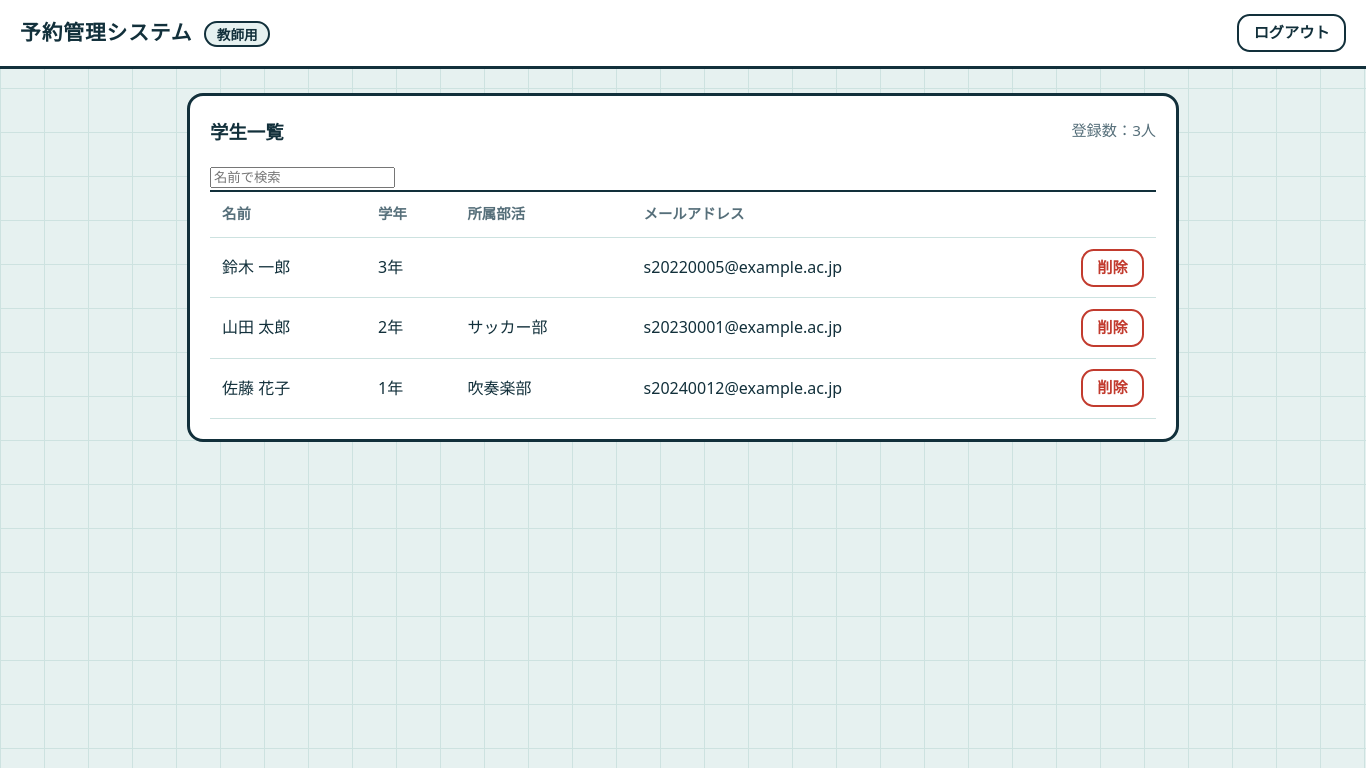
Test case: 学生一覧画面（教師用） › 「キャンセル」と Escキーで、削除せずに、ポップアップを閉じる
Expected: the heading "学生一覧" is shown, left=210, top=116, right=284, bottom=147
Click the button with aria-label "山田 太郎を削除".
click(1112, 328)  # box left=1081, top=309, right=1144, bottom=347
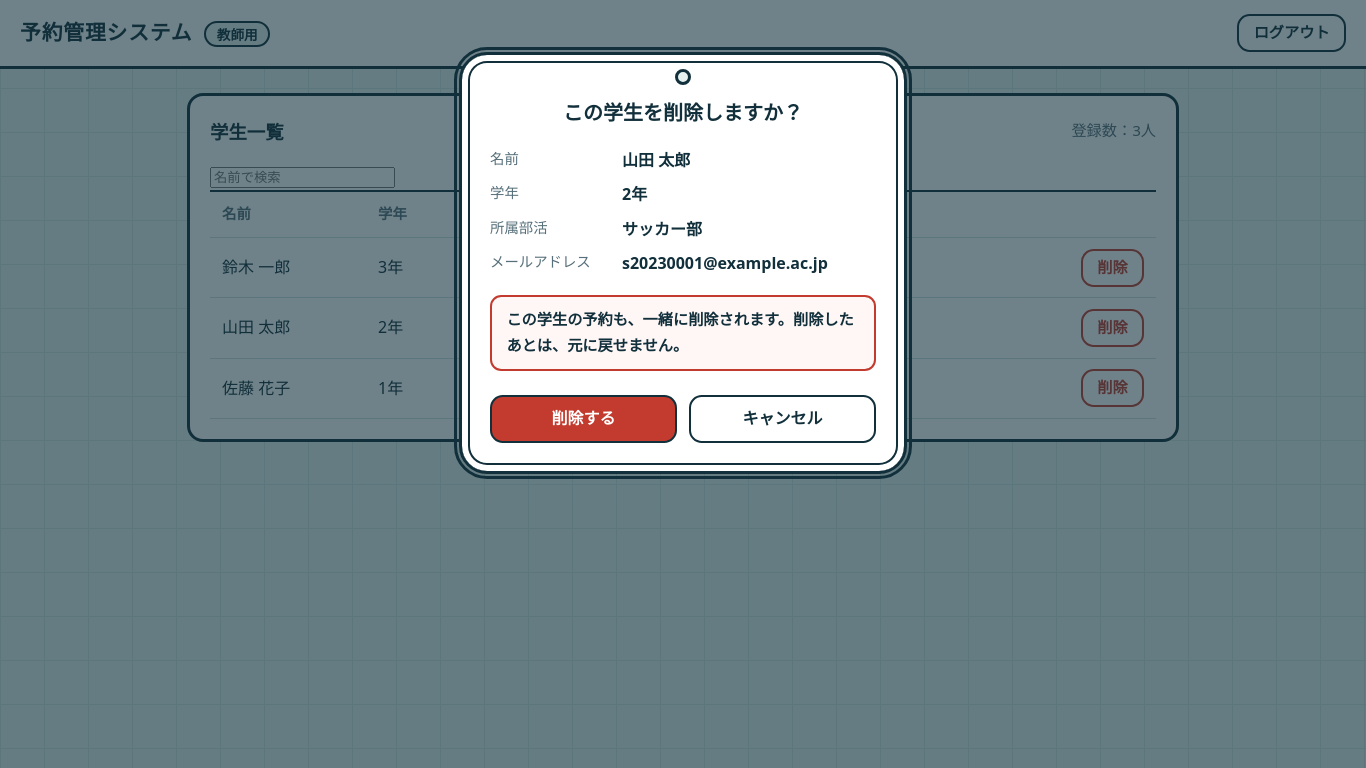
Click the button "キャンセル".
click(782, 419)  # box left=689, top=395, right=876, bottom=443
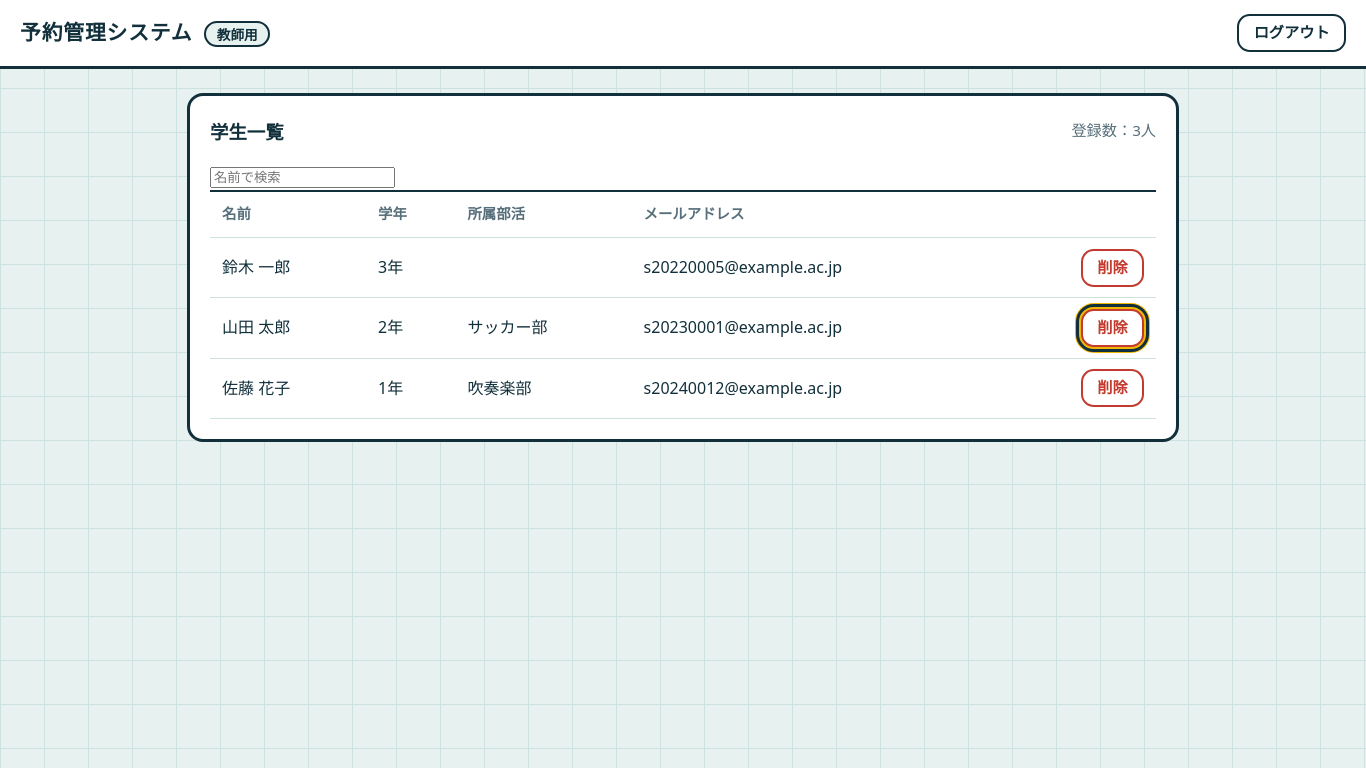
Result: the dialog is gone
Click the button with aria-label "佐藤 花子を削除".
click(1112, 388)  # box left=1081, top=369, right=1144, bottom=407
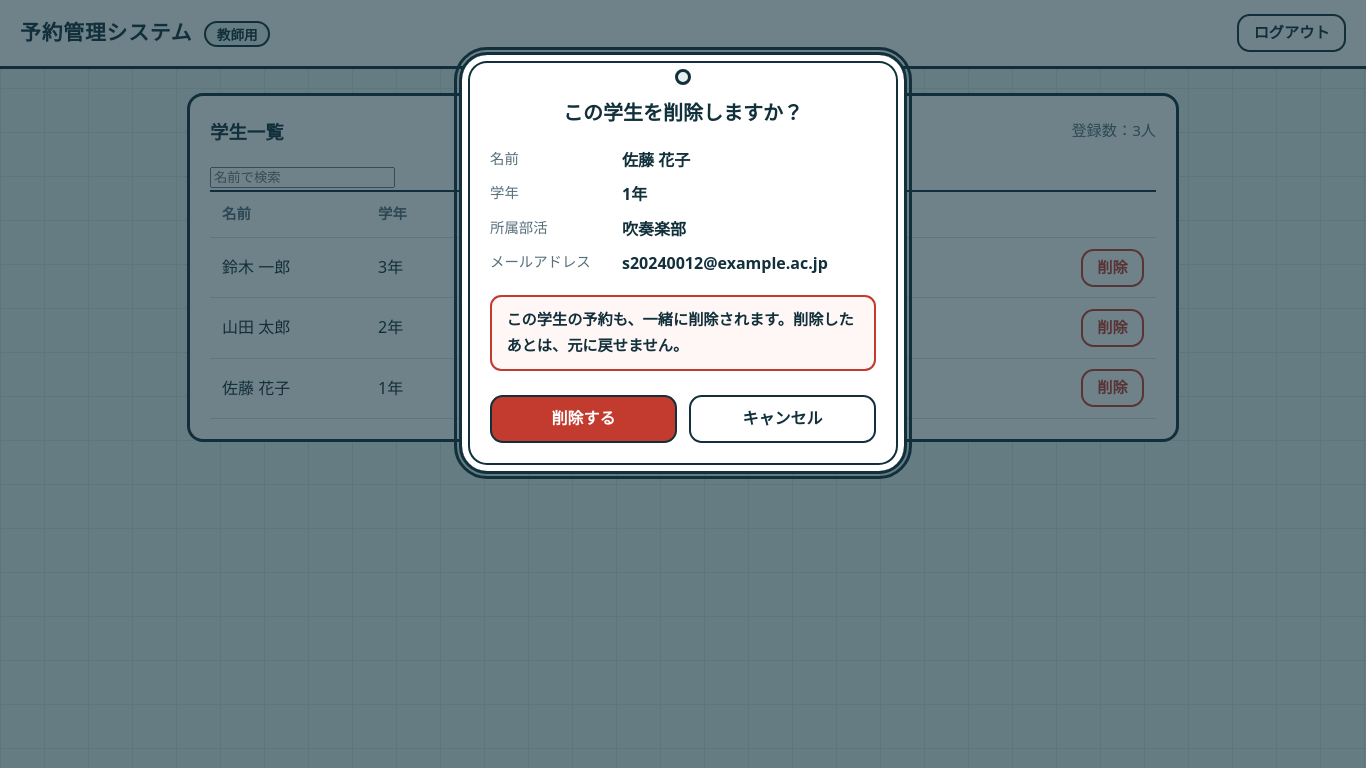
Press Escape
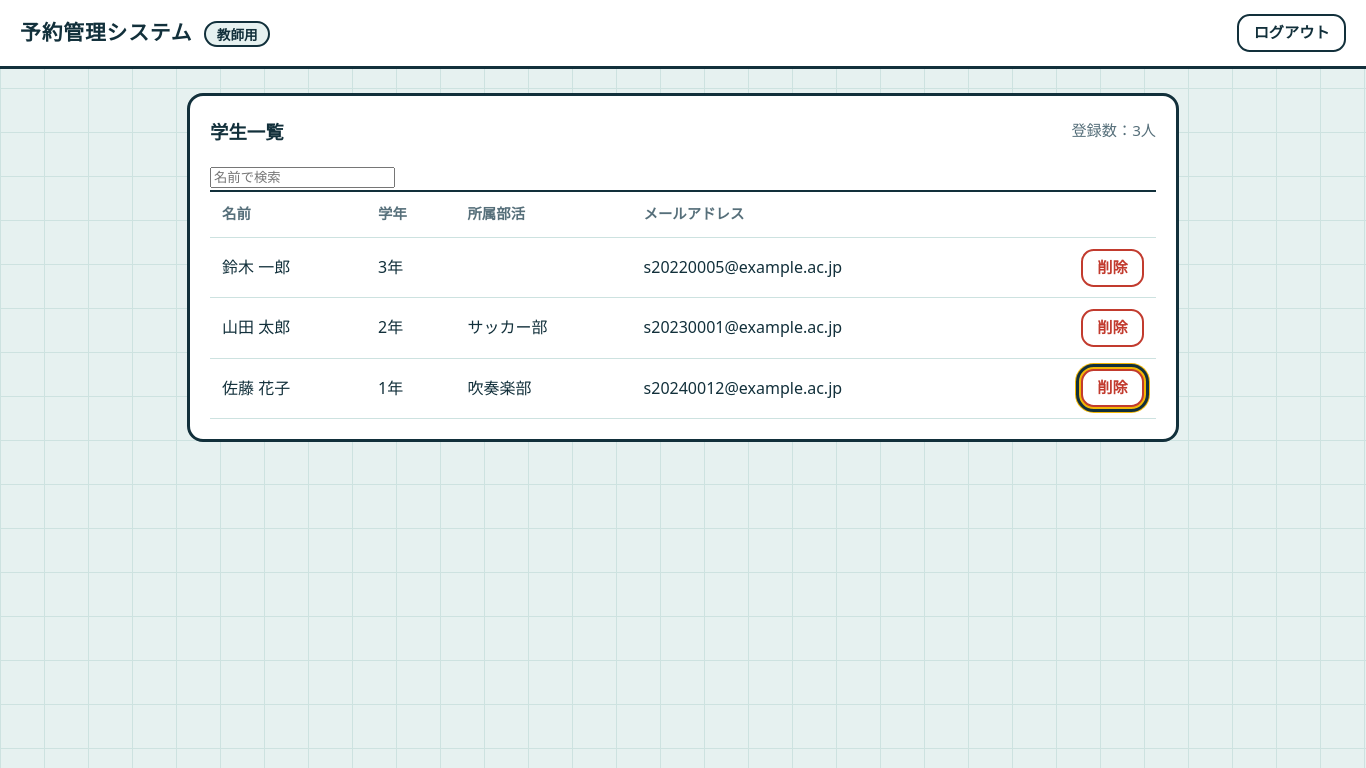
Expected: the number of rows is 4, left=210, top=192, right=1156, bottom=238; left=210, top=238, right=1156, bottom=298; left=210, top=298, right=1156, bottom=358; left=210, top=358, right=1156, bottom=418
Result: the dialog is gone
